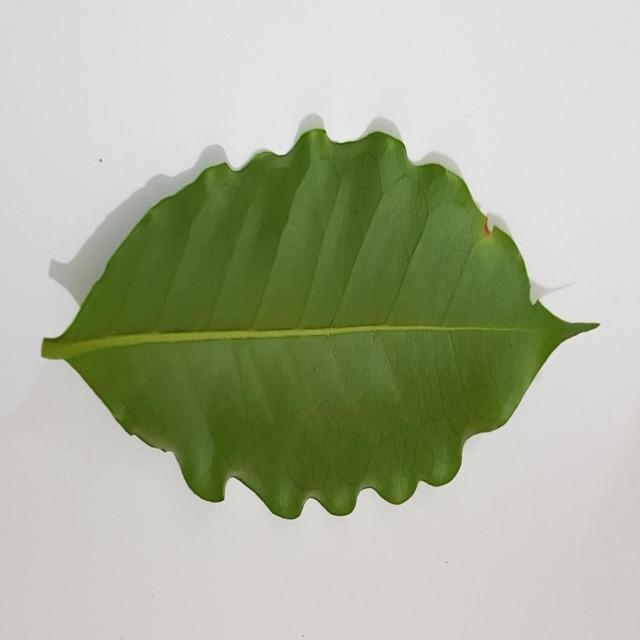nodisease: (41, 128, 598, 519)
